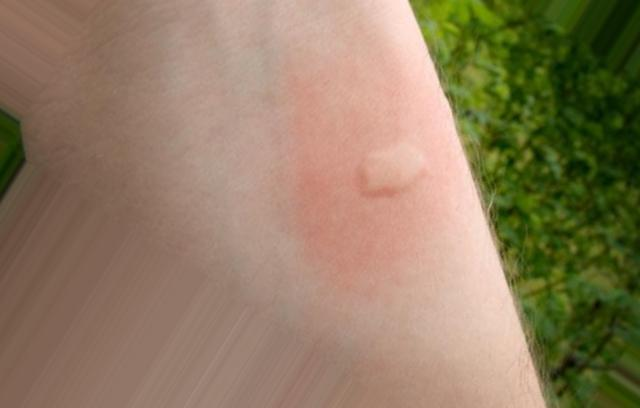Mosquito: (345, 127, 439, 207)
